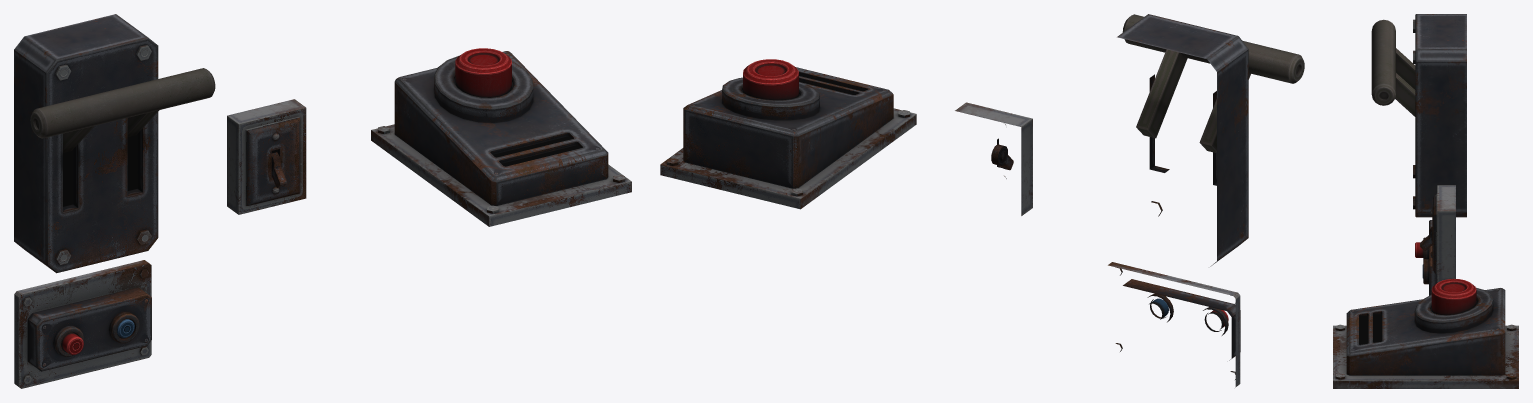
Rendered from switchers(1).glb.
3 renders of one model, left to right at view 1: azimuth 30°, elevation 25°; view 2: azimuth 150°, elevation 25°; view 3: azimuth 270°, elevation 25°, orthographic. The views are drawn at different scales.
Parts seen in each view (by area): view 1: lever, bigbutton, buttonswitch, switchsmall, handle, button; view 2: bigbutton, lever, handle, buttonswitch, button, switchsmall; view 3: bigbutton, lever, handle, switchsmall, button, buttonswitch, switch.
Part boxes in pixels (box(x1,y1,x2,y2)): lever: box(14, 14, 158, 273); bigbutton: box(371, 51, 631, 226); buttonswitch: box(14, 260, 151, 388); switchsmall: box(227, 99, 306, 214); handle: box(30, 68, 215, 152); button: box(455, 48, 511, 97); bigbutton: box(660, 67, 916, 209); lever: box(1117, 14, 1248, 266); handle: box(1122, 14, 1304, 153); buttonswitch: box(1108, 262, 1240, 387); button: box(743, 59, 798, 100); switchsmall: box(955, 102, 1032, 215); bigbutton: box(1333, 287, 1518, 388); lever: box(1413, 14, 1466, 217); handle: box(1371, 19, 1415, 116); switchsmall: box(1430, 185, 1455, 282); button: box(1431, 278, 1476, 315); buttonswitch: box(1423, 220, 1437, 295); switch: box(1420, 227, 1432, 250).
Bounding box in the file's own units: 1.65 × 0.9463 × 0.5991.
Materials: 1 (1 with a texture image).
